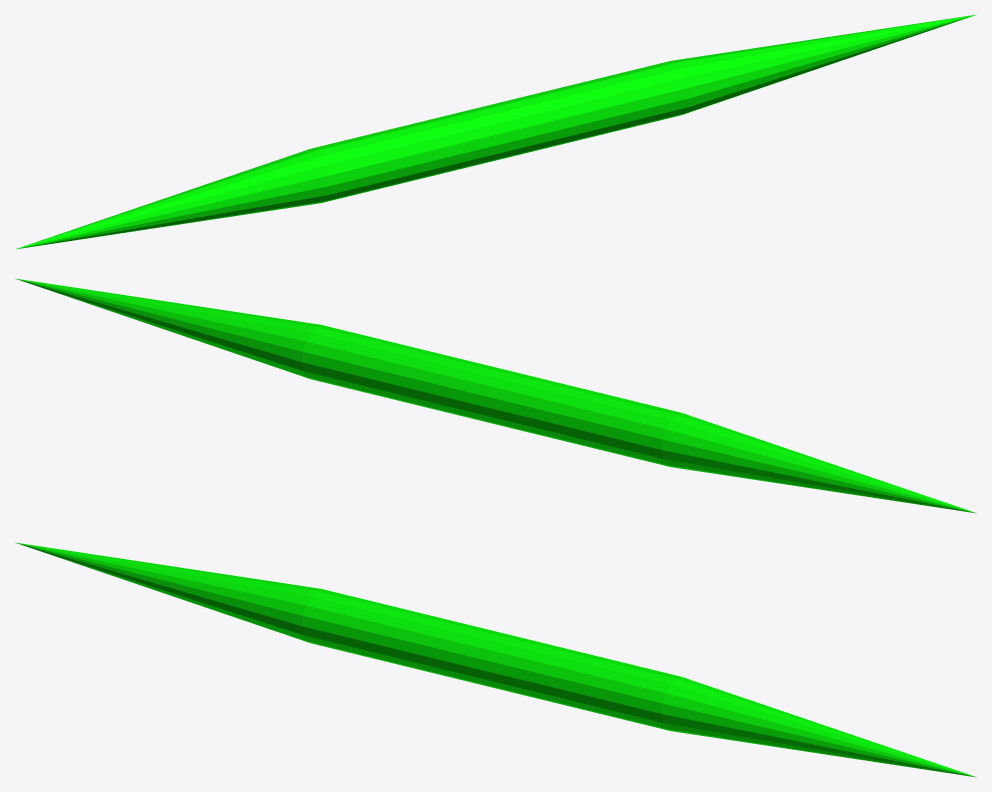
File: laser.obj
3 renders of one model, top to bottom at view 1: azimuth 30°, elevation 25°; view 2: azimuth 150°, elevation 25°; view 3: azimuth 330°, elevation 25°, orthographic.
Parts seen in each view (by area): view 1: Цилиндр; view 2: Цилиндр; view 3: Цилиндр.
Part boxes in pixels (x1,y1,x2,y2): Цилиндр: (15, 14, 976, 249); Цилиндр: (15, 278, 976, 513); Цилиндр: (15, 542, 976, 777).
Bounding box in the file's own units: 0.993 × 0.0497 × 0.0497.
